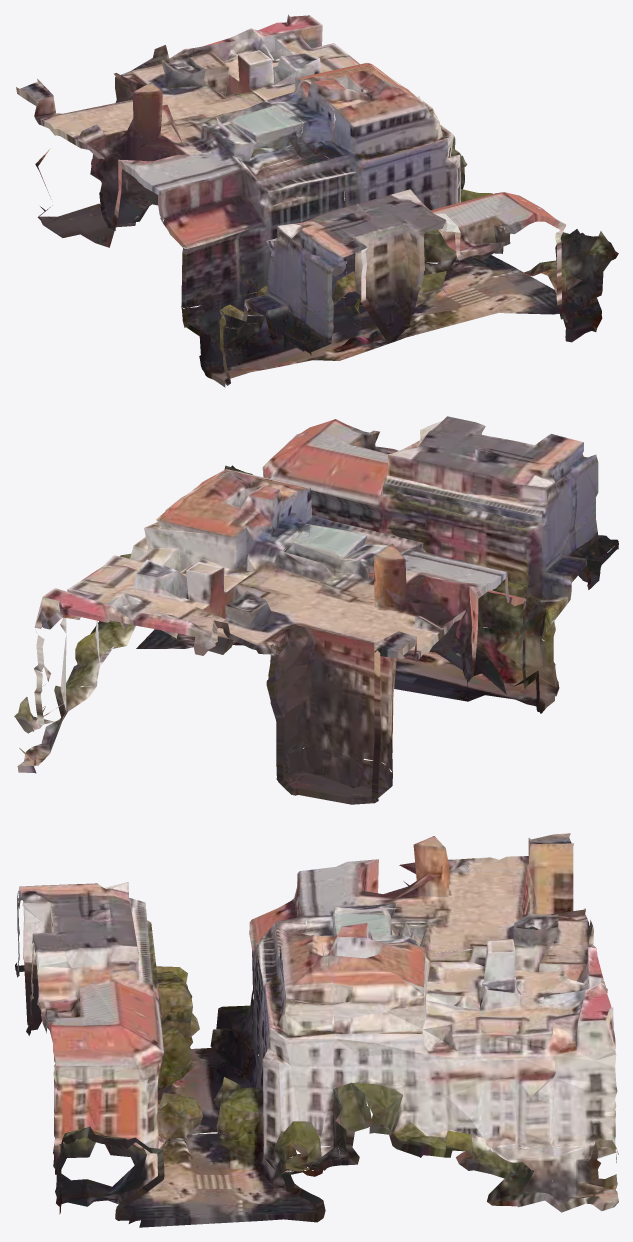
3 renders of one model, top to bottom at view 1: azimuth 30°, elevation 25°; view 2: azimuth 150°, elevation 25°; view 3: azimuth 270°, elevation 25°, orthographic. The views are drawn at different scales.
Parts seen in each view (by area): view 1: Mesh_0, eigenhaus; view 2: Mesh_0, eigenhaus; view 3: Mesh_0, eigenhaus.
Part boxes in pixels (x1,y1,x2,y2): Mesh_0: (16, 14, 618, 387); eigenhaus: (206, 22, 367, 158); Mesh_0: (14, 416, 618, 804); eigenhaus: (44, 518, 255, 734); Mesh_0: (15, 833, 618, 1227); eigenhaus: (407, 938, 606, 1191).
Bounding box in the file's own units: 67.76 × 35.53 × 82.67.
Materials: 1 (1 with a texture image).
